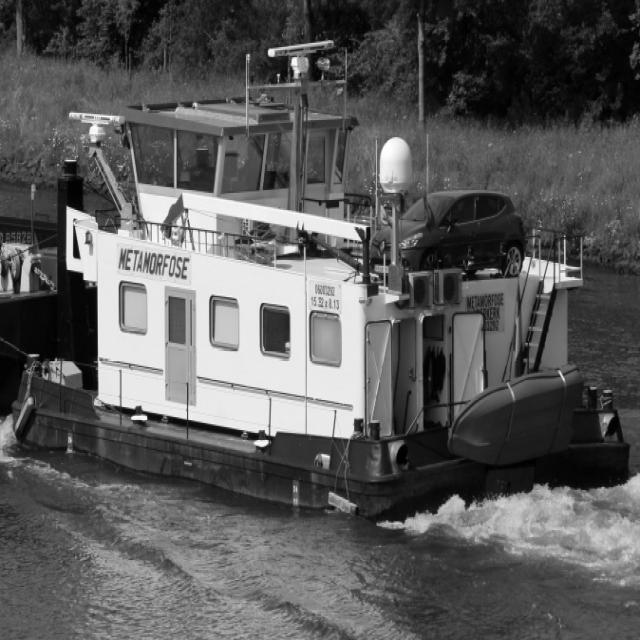tugboat: (1, 36, 638, 536)
